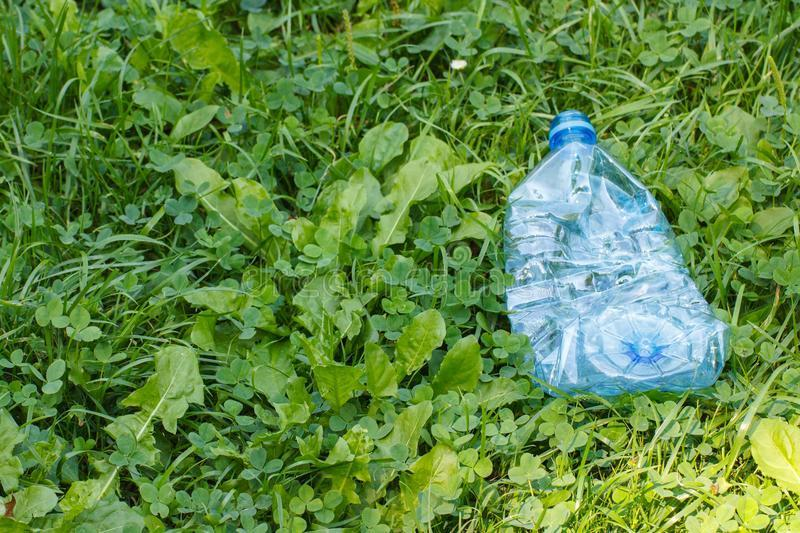bottle: (499, 104, 739, 412)
